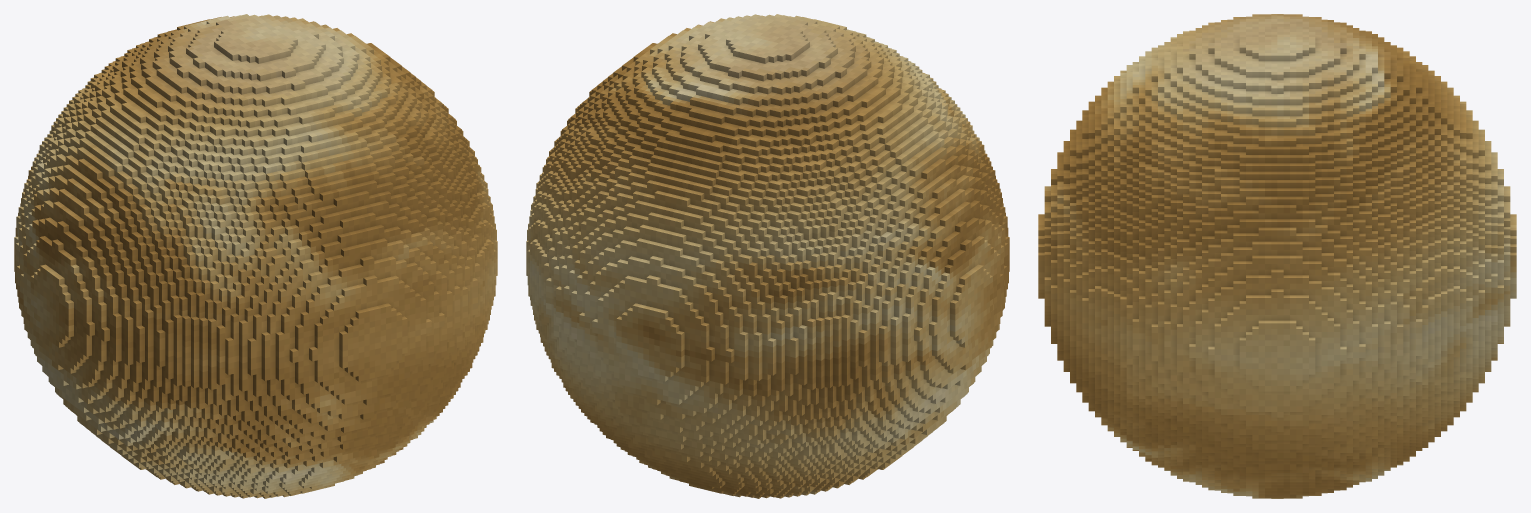
Rendered from venus_lod0.glb.
3 renders of one model, left to right at view 1: azimuth 30°, elevation 25°; view 2: azimuth 150°, elevation 25°; view 3: azimuth 270°, elevation 25°, orthographic.
Parts seen in each view (by area): view 1: venus_lod0; view 2: venus_lod0; view 3: venus_lod0.
Part boxes in pixels (x1,y1,x2,y2): venus_lod0: [14, 14, 497, 498]; venus_lod0: [526, 14, 1009, 498]; venus_lod0: [1038, 14, 1516, 498].
Bounding box in the file's own units: 2 × 2 × 2.
